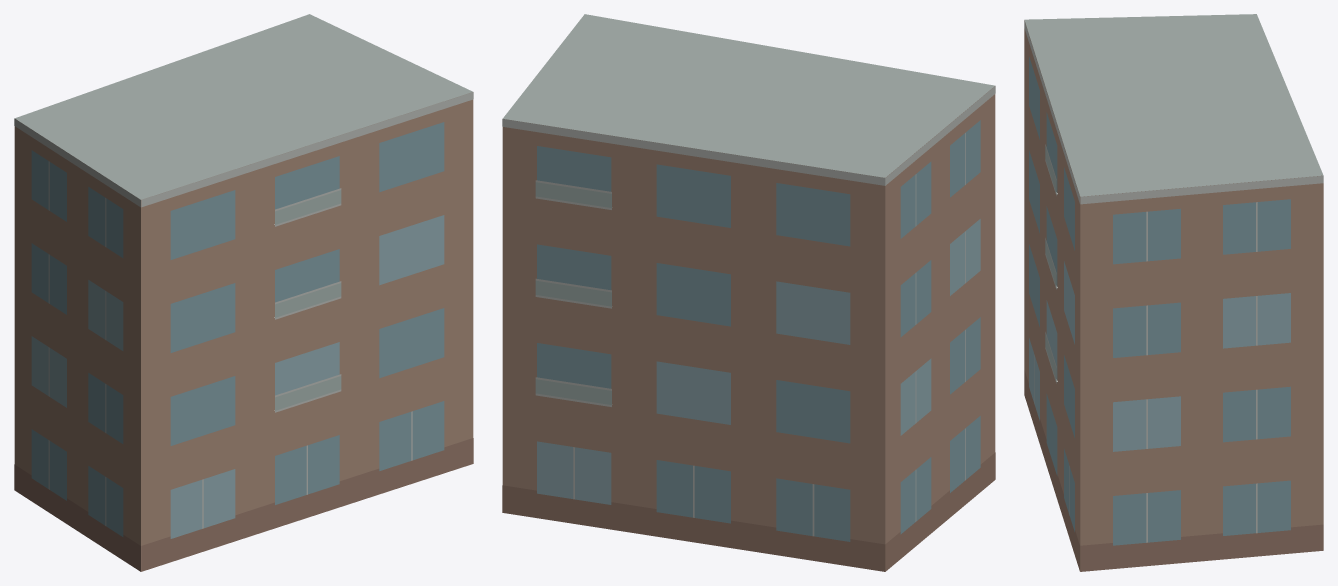
File: survey-upis-32488225.glb
3 renders of one model, left to right at view 1: azimuth 30°, elevation 25°; view 2: azimuth 150°, elevation 25°; view 3: azimuth 270°, elevation 25°, orthographic. The views are drawn at different scales.
Parts seen in each view (by area): view 1: survey-upis-32488225.tmp; view 2: survey-upis-32488225.tmp; view 3: survey-upis-32488225.tmp.
Part boxes in pixels (box(x1,y1,x2,y2)): survey-upis-32488225.tmp: box(14, 14, 473, 571); survey-upis-32488225.tmp: box(502, 14, 995, 571); survey-upis-32488225.tmp: box(1024, 14, 1323, 571).
Bounding box in the file's own units: 12.49 × 11.95 × 8.65.
